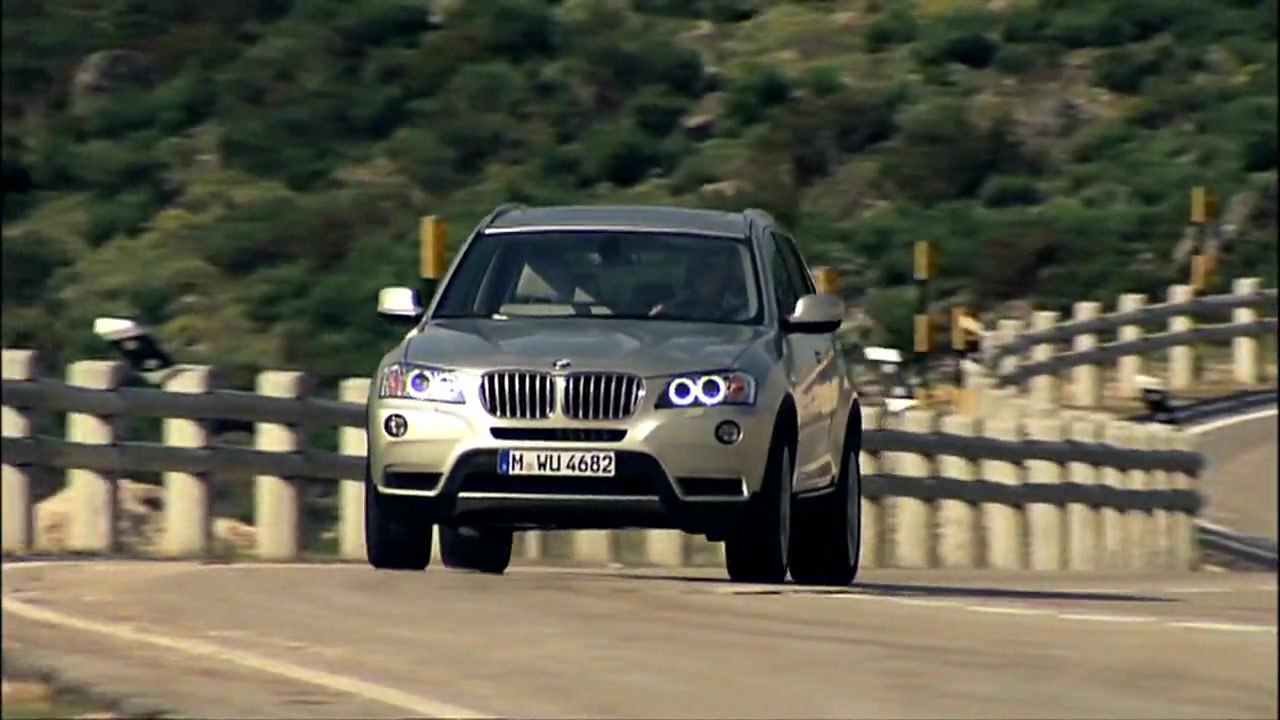car: (357, 199, 871, 592)
